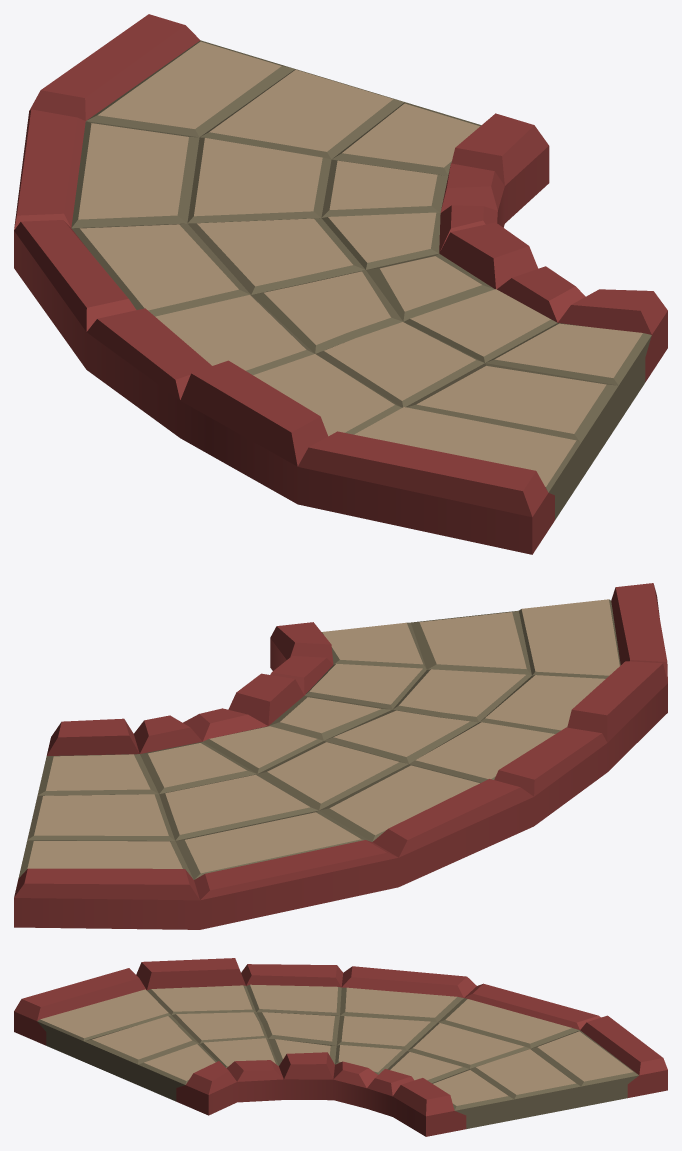
Rendered from roadcurved.fbx.
3 renders of one model, top to bottom at view 1: azimuth 30°, elevation 25°; view 2: azimuth 150°, elevation 25°; view 3: azimuth 270°, elevation 25°, orthographic. The views are drawn at different scales.
Visible parts, largest first — view 1: pCube1; view 2: pCube1; view 3: pCube1.
Part boxes in pixels (x1,y1,x2,y2): pCube1: (14, 14, 667, 554); pCube1: (14, 583, 667, 929); pCube1: (14, 958, 667, 1136).
Size of the model in its own units: 196 by 23.49 by 378.
